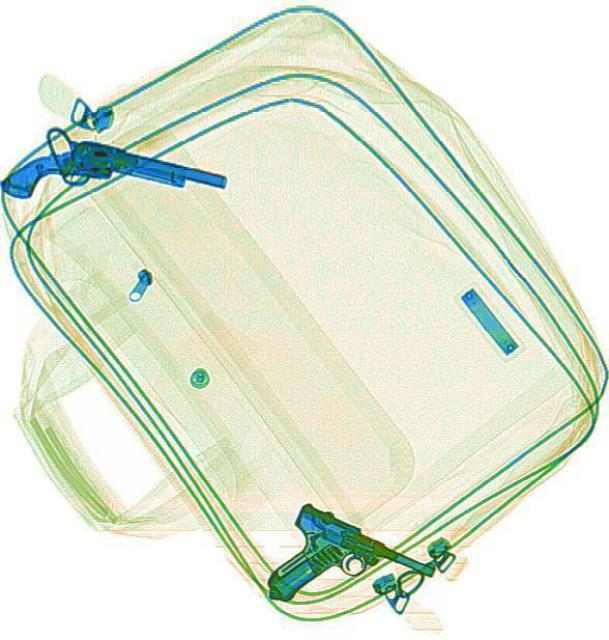Gun: (0, 121, 227, 245), (258, 502, 419, 638)
